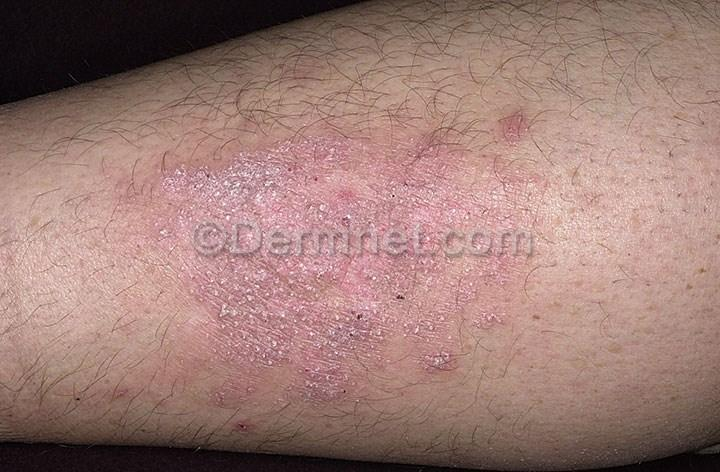Eczema: (255, 205, 362, 322), (326, 133, 460, 220), (201, 315, 299, 426), (81, 335, 198, 427), (369, 222, 462, 325), (289, 335, 375, 440), (161, 224, 259, 315), (373, 318, 462, 411), (446, 88, 522, 196), (133, 145, 234, 224), (452, 198, 560, 265), (278, 119, 356, 209), (106, 218, 191, 297), (459, 285, 529, 370), (263, 41, 353, 104), (220, 143, 279, 211)
